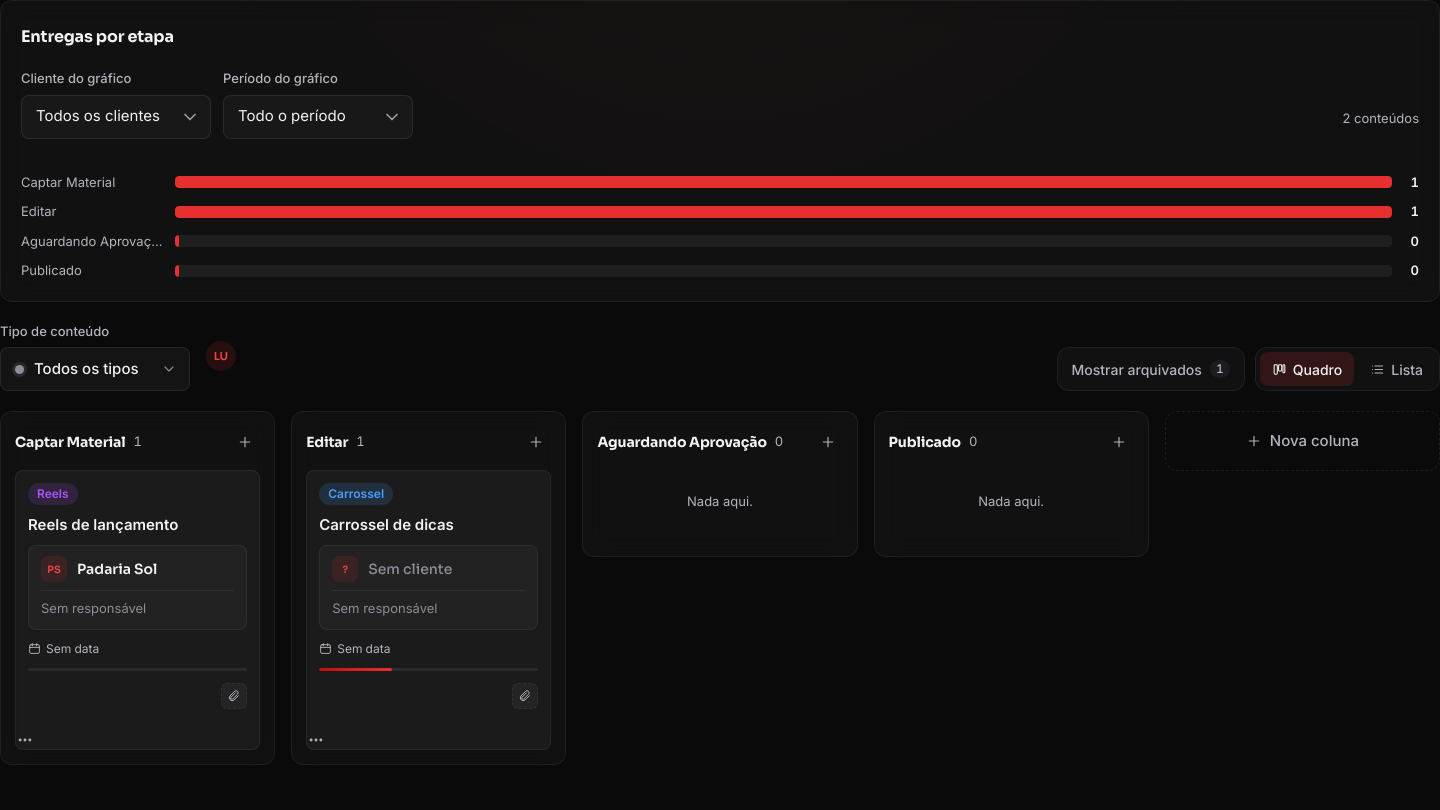
Test: ConteudoPage › clicar no card abre o painel lateral com os dados, sem botão de salvar
This screenshot has width=1440, height=810.
Click the button with aria-label "Abrir Reels de lançamento". click: x=138, y=577
box: [16,471,259,683]
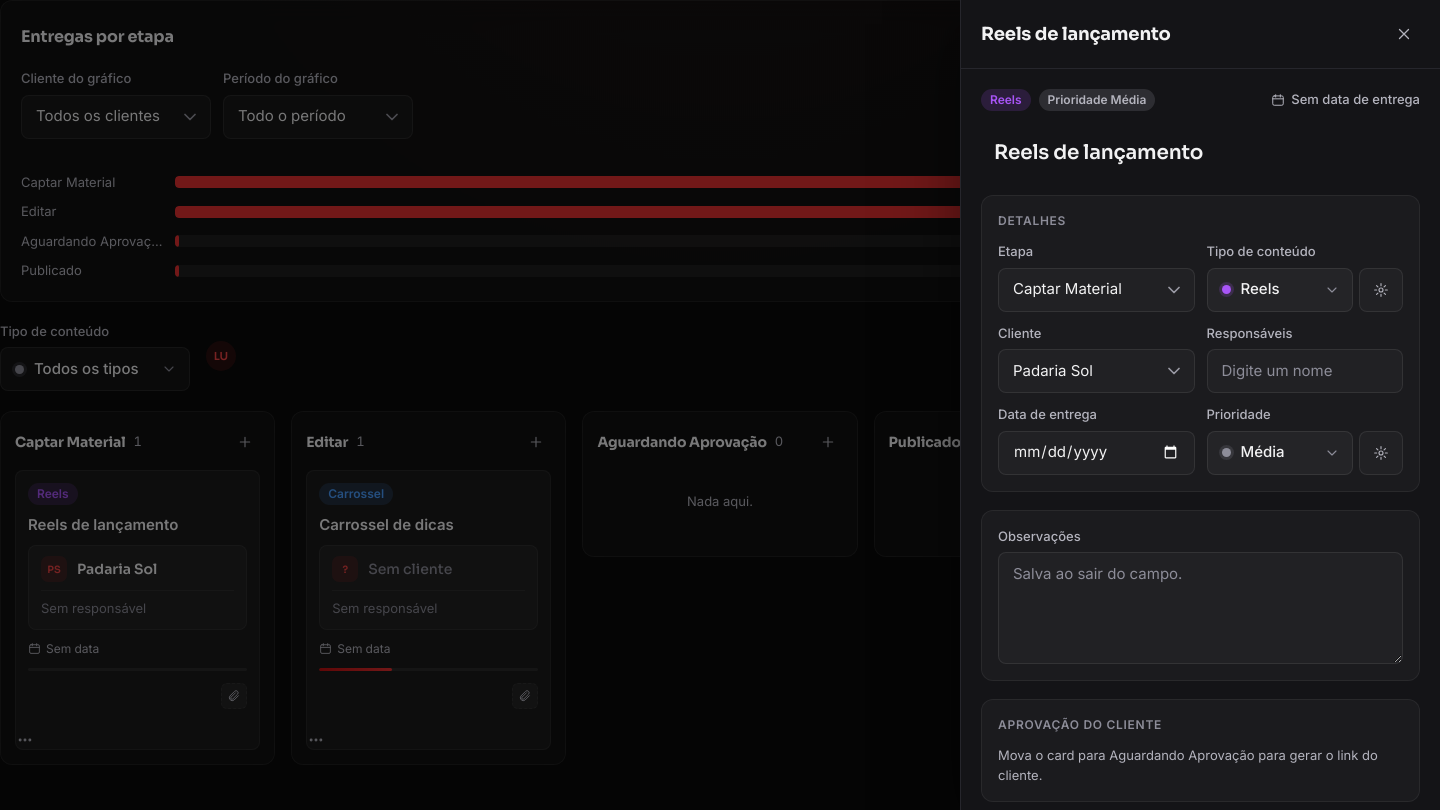
Expected: the field named "Título" holds "Reels de lançamento", [981,129,1420,177]
Expected: the dropdown labelled "Cliente" shows "Padaria Sol", [998,349,1194,393]
